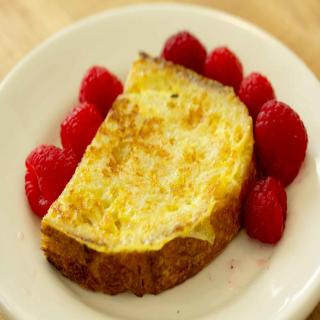Bread: (40, 51, 260, 294)
